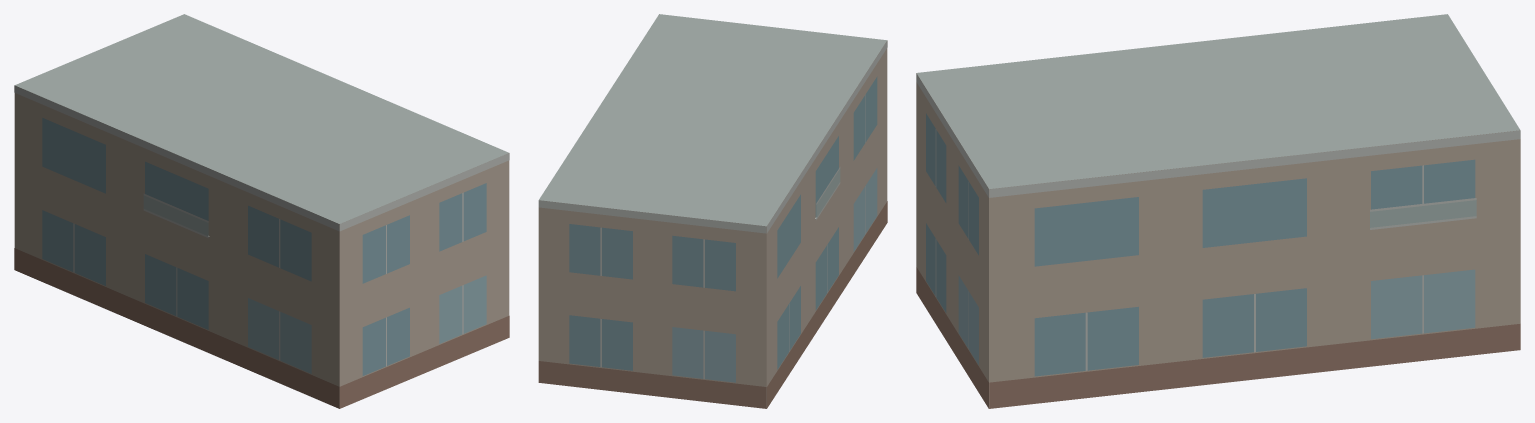
Rendered from survey-upis-32985920.glb.
3 renders of one model, left to right at view 1: azimuth 30°, elevation 25°; view 2: azimuth 150°, elevation 25°; view 3: azimuth 270°, elevation 25°, orthographic. The views are drawn at different scales.
Parts seen in each view (by area): view 1: survey-upis-32985920.tmp; view 2: survey-upis-32985920.tmp; view 3: survey-upis-32985920.tmp.
Boxes of the visible parts, x1,y1,x2,y2 form: survey-upis-32985920.tmp: (14, 14, 509, 408); survey-upis-32985920.tmp: (538, 14, 887, 408); survey-upis-32985920.tmp: (916, 14, 1520, 408).
Size of the model in its own units: 10.44 by 6.1 by 15.22.
